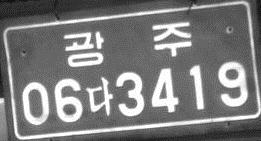0: (21, 81, 49, 126)
1: (184, 66, 210, 110)
3: (114, 71, 144, 117)
4: (150, 68, 178, 113)
6: (53, 78, 82, 122)
9: (217, 61, 248, 107)
광주_D: (63, 22, 192, 67)
다: (85, 76, 113, 117)
